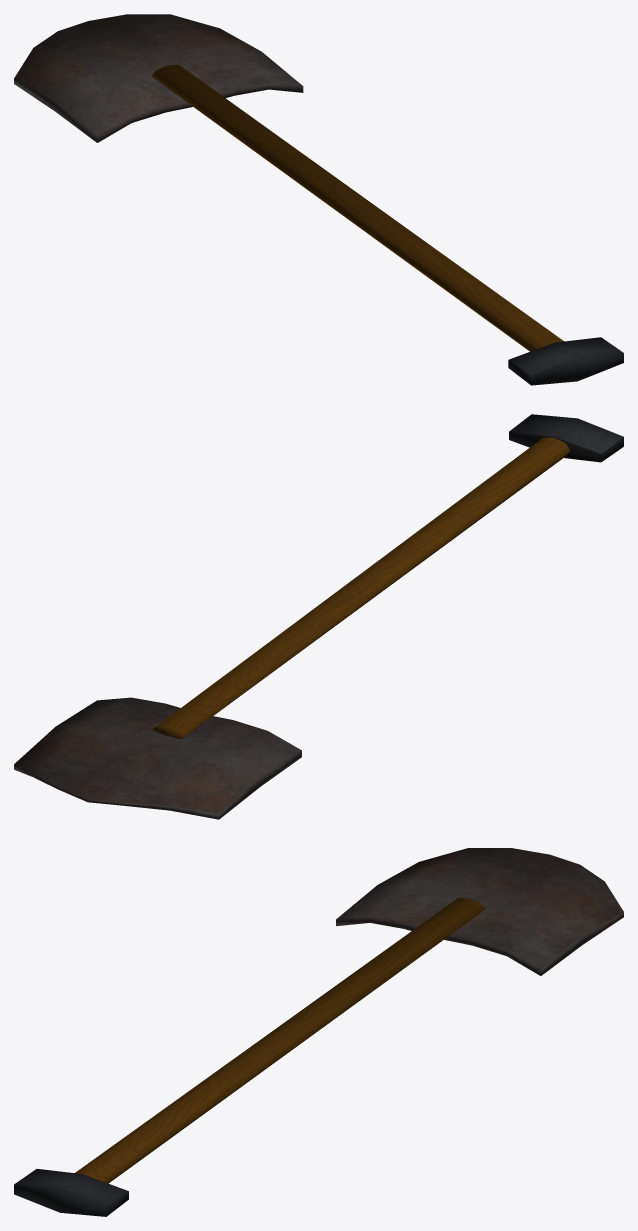
The model's file is Shovel.fbx.
3 views of the same model, one above another, from view 1: azimuth 30°, elevation 25°; view 2: azimuth 150°, elevation 25°; view 3: azimuth 330°, elevation 25° (orthographic).
Visible parts, largest first — view 1: Shovel; view 2: Shovel; view 3: Shovel.
Boxes of the visible parts, <box> form: Shovel: <box>14,14,623,385</box>; Shovel: <box>14,414,623,819</box>; Shovel: <box>14,848,623,1216</box>.
Size of the model in its own units: 14.43 by 2.69 by 59.55.
Materials: 1 (1 with a texture image).
